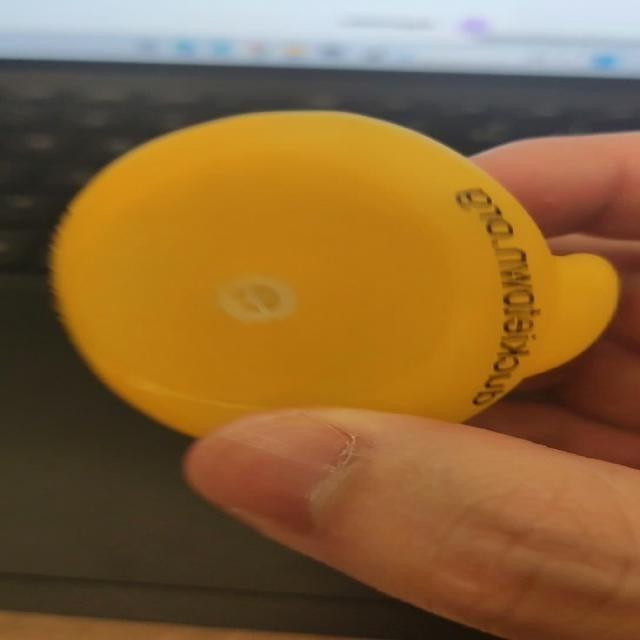rubber-duck: (50, 110, 616, 433)
